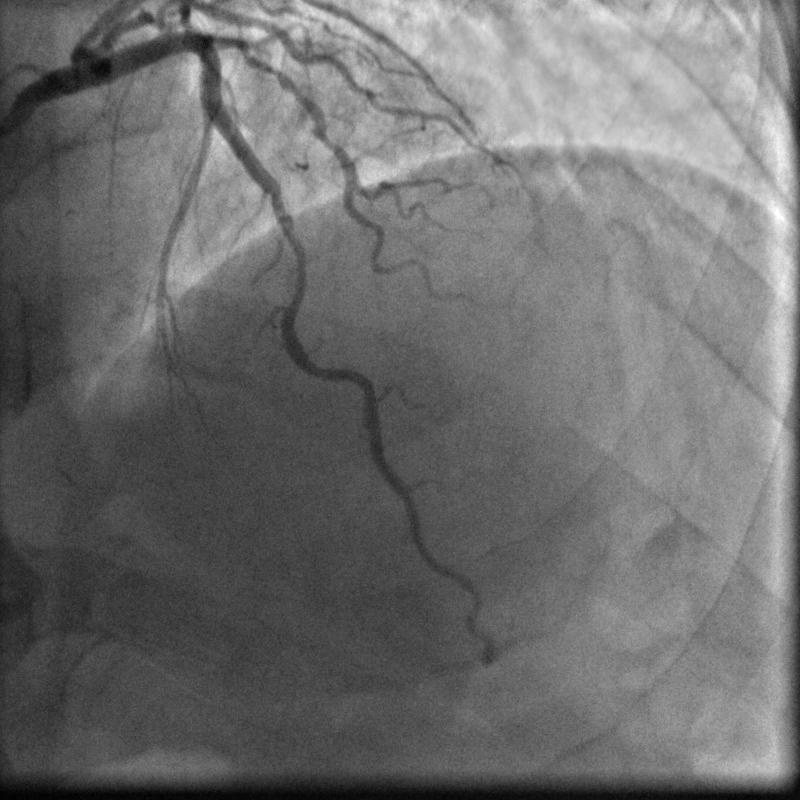Stenosis: (266, 194, 311, 300)
